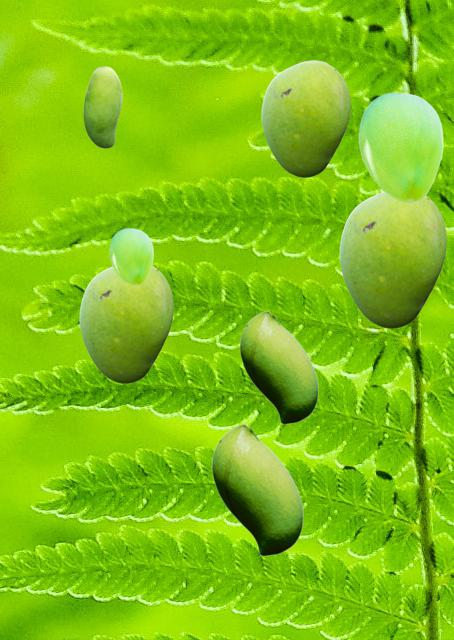green_mango: (339, 191, 445, 327), (211, 423, 302, 555), (79, 265, 172, 382), (261, 60, 349, 176), (358, 92, 442, 201), (239, 310, 317, 423), (83, 66, 121, 147), (109, 228, 152, 284)
